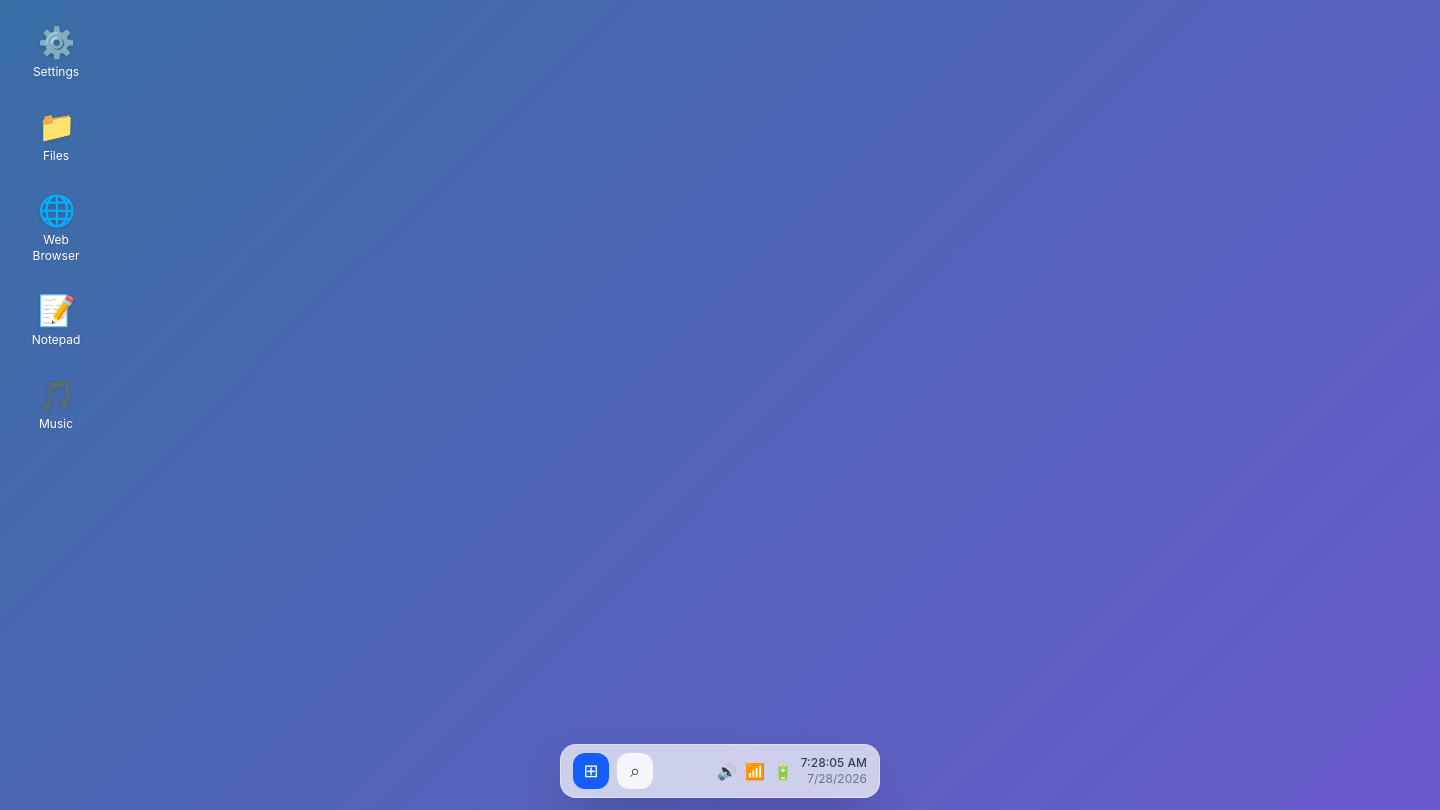
Test case: Desktop › closes the server session when a window is closed while its open is still in flight
Click the button named "Start".
click(591, 771)  # box [573, 753, 609, 789]
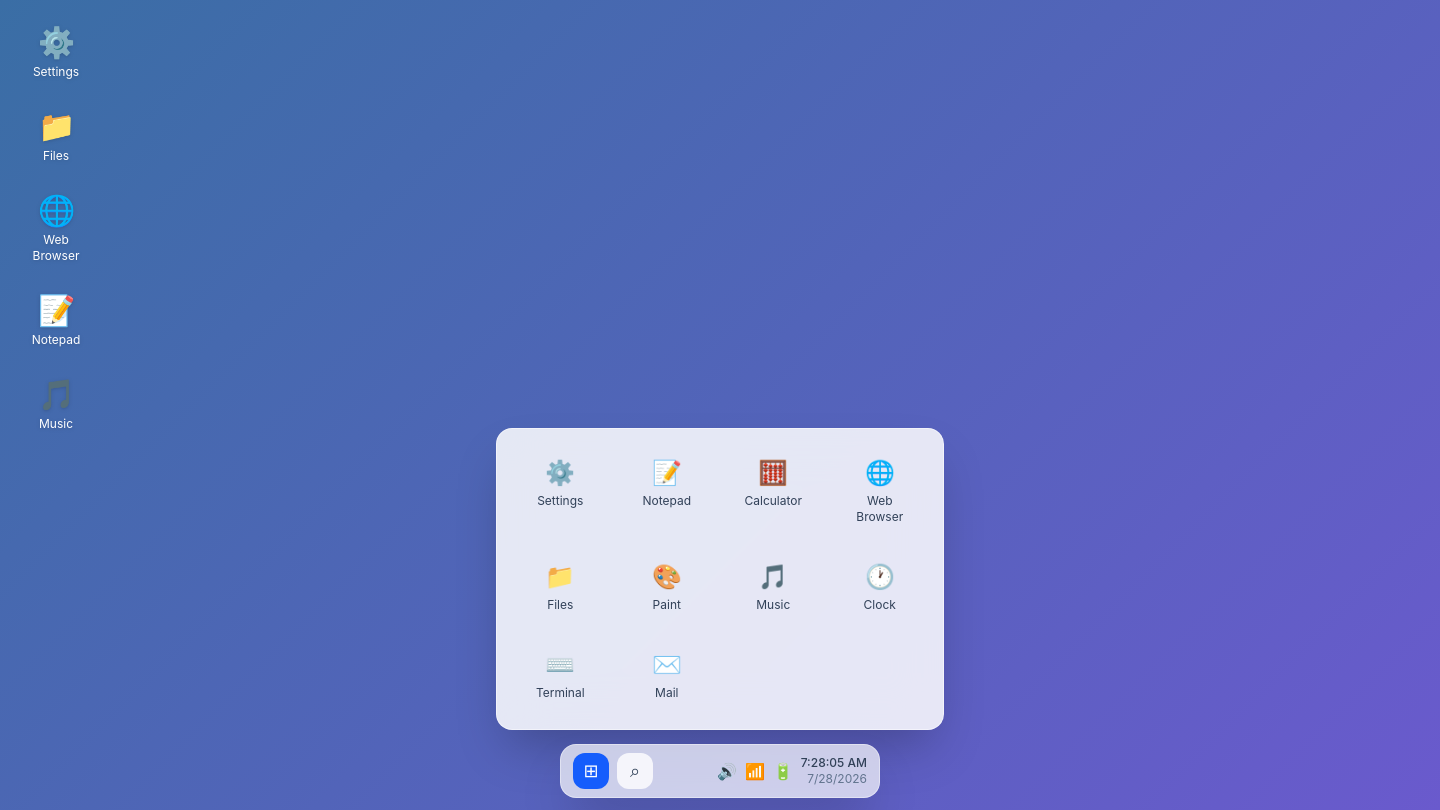
Click the text "Calculator".
click(773, 501)  # box [744, 493, 802, 509]
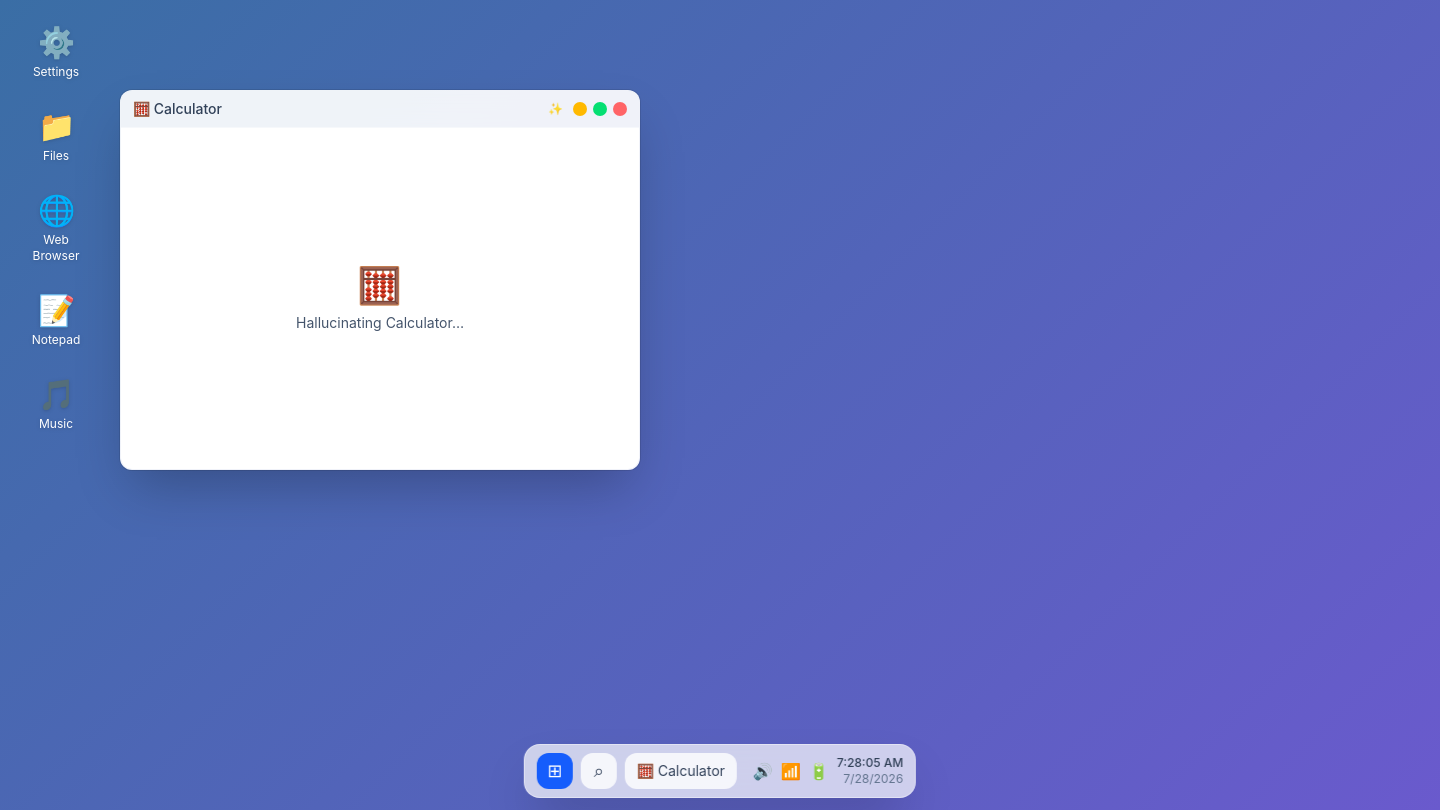
Expected: the text "Hallucinating Calculator…" is shown, [296, 312, 464, 332]
Click the button named "Close".
click(620, 109)  # box [613, 102, 627, 116]
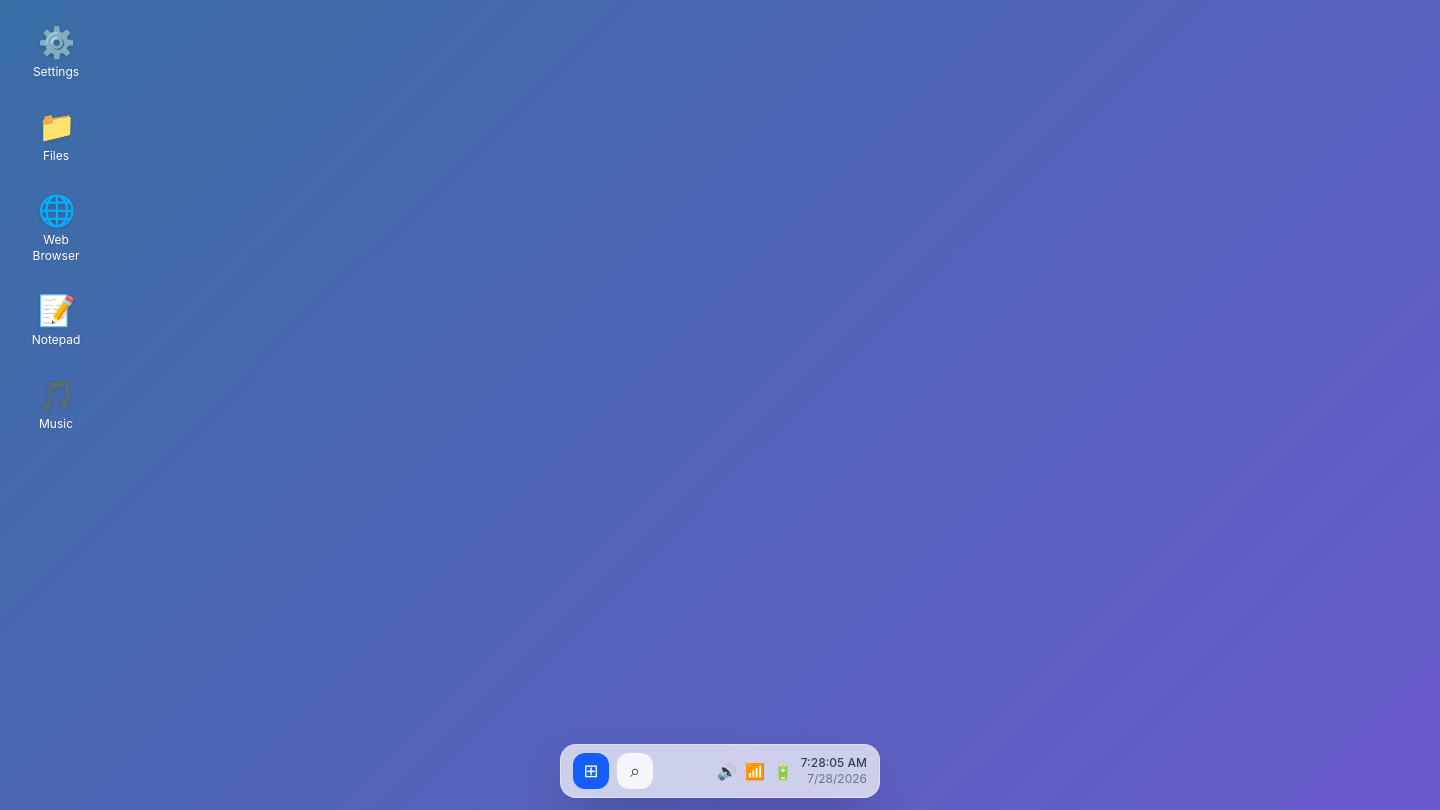
Expected: the text "Hallucinating Calculator" is gone
